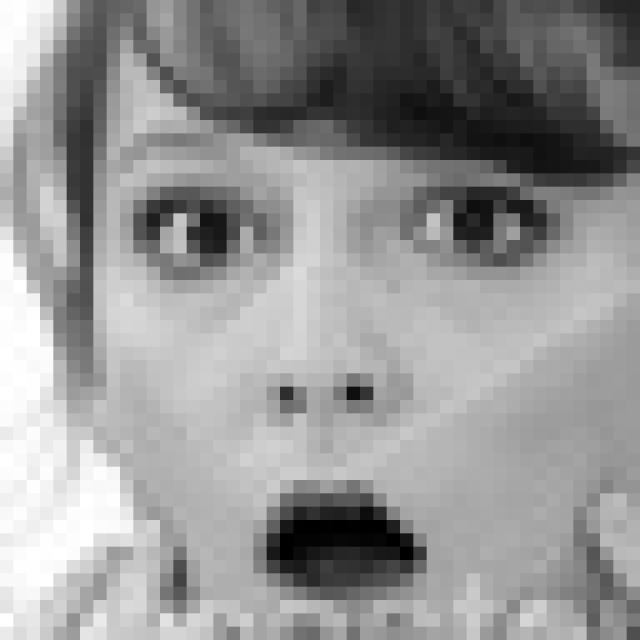surprise: (110, 112, 574, 611)
